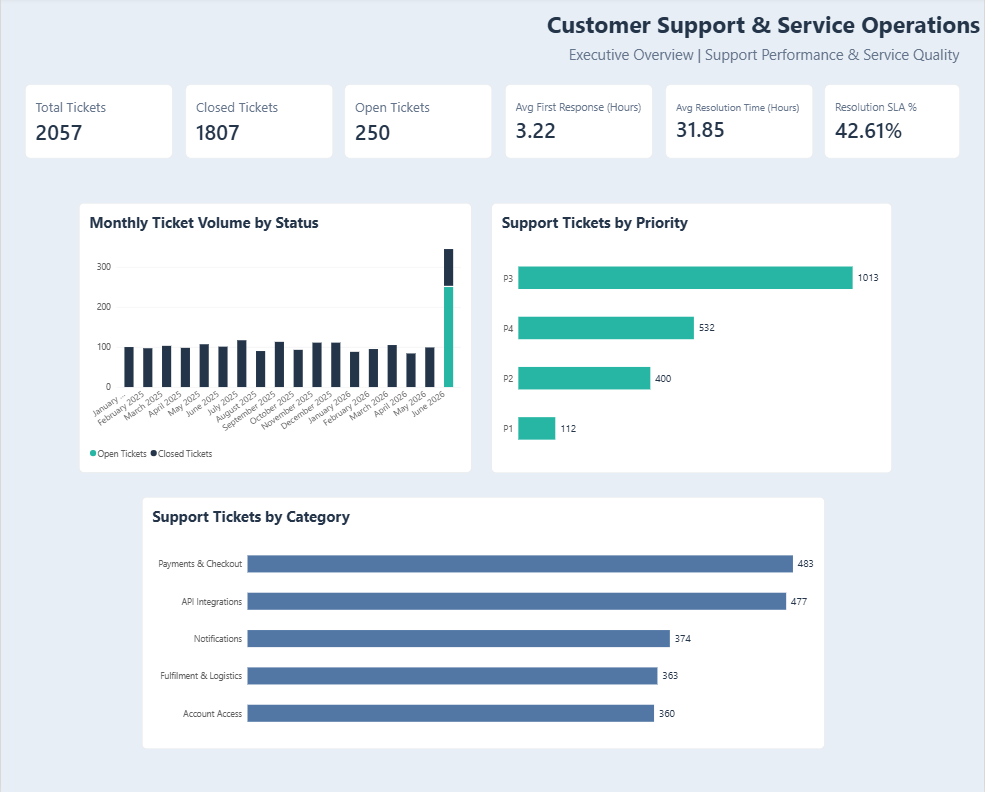

The dashboard page shown, as its layout file describes it:
{"tool":"powerbi","page":{"name":"Executive Overview","canvas":[1600,1300],"ordinal":1},"visuals":[{"type":"textbox","box":[889.6,20,710.4,58.3],"z":0},{"type":"textbox","box":[917.7,78.1,641.7,52.1],"z":1000},{"type":"cardVisual","fields":{"Data":["tickets.Total Tickets"]},"box":[40,145,240,120],"z":2000},{"type":"cardVisual","fields":{"Data":["tickets.Closed Tickets"]},"box":[300,145,240,120],"z":3000},{"type":"cardVisual","fields":{"Data":["tickets.Open Tickets"]},"box":[560,145,240,120],"z":4000},{"type":"cardVisual","fields":{"Data":["tickets.Avg First Response (Hours)"]},"box":[820,145,240,120],"z":5000},{"type":"cardVisual","fields":{"Data":["tickets.Avg Resolution Time (Hours)"]},"box":[1080,145,240,120],"z":6000},{"type":"cardVisual","fields":{"Data":["tickets.Resolution SLA Compliance %"]},"box":[1340,145,220,120],"z":7000},{"type":"columnChart","title":"Monthly Ticket Volume by Status","fields":{"Category":["DateTable.MonthStart"],"Y":["tickets.Open Tickets","tickets.Closed Tickets"]},"box":[126.9,336.8,638.8,438.8],"z":8000},{"type":"clusteredBarChart","title":"Support Tickets by Priority","fields":{"Category":["tickets.priority"],"Y":["tickets.Total Tickets"]},"box":[798.1,336.8,651.6,439.3],"z":9000},{"type":"clusteredBarChart","title":"Support Tickets by Category","fields":{"Category":["tickets.category"],"Y":["tickets.Total Tickets"]},"box":[229.4,815.2,1110.5,410],"z":10000}]}

Visuals, with their boxes in screenshot pixels (x1, y1, x2, y2), scaled from the page's 1600x1300 canvas onto the 985x792 screenshot:
textbox: (left=548, top=12, right=984, bottom=48)
textbox: (left=565, top=48, right=960, bottom=79)
cardVisual - tickets.Total Tickets: (left=25, top=88, right=172, bottom=161)
cardVisual - tickets.Closed Tickets: (left=185, top=88, right=332, bottom=161)
cardVisual - tickets.Open Tickets: (left=345, top=88, right=492, bottom=161)
cardVisual - tickets.Avg First Response (Hours): (left=505, top=88, right=653, bottom=161)
cardVisual - tickets.Avg Resolution Time (Hours): (left=665, top=88, right=813, bottom=161)
cardVisual - tickets.Resolution SLA Compliance %: (left=825, top=88, right=960, bottom=161)
"Monthly Ticket Volume by Status" columnChart: (left=78, top=205, right=471, bottom=473)
"Support Tickets by Priority" clusteredBarChart: (left=491, top=205, right=892, bottom=473)
"Support Tickets by Category" clusteredBarChart: (left=141, top=497, right=825, bottom=746)
